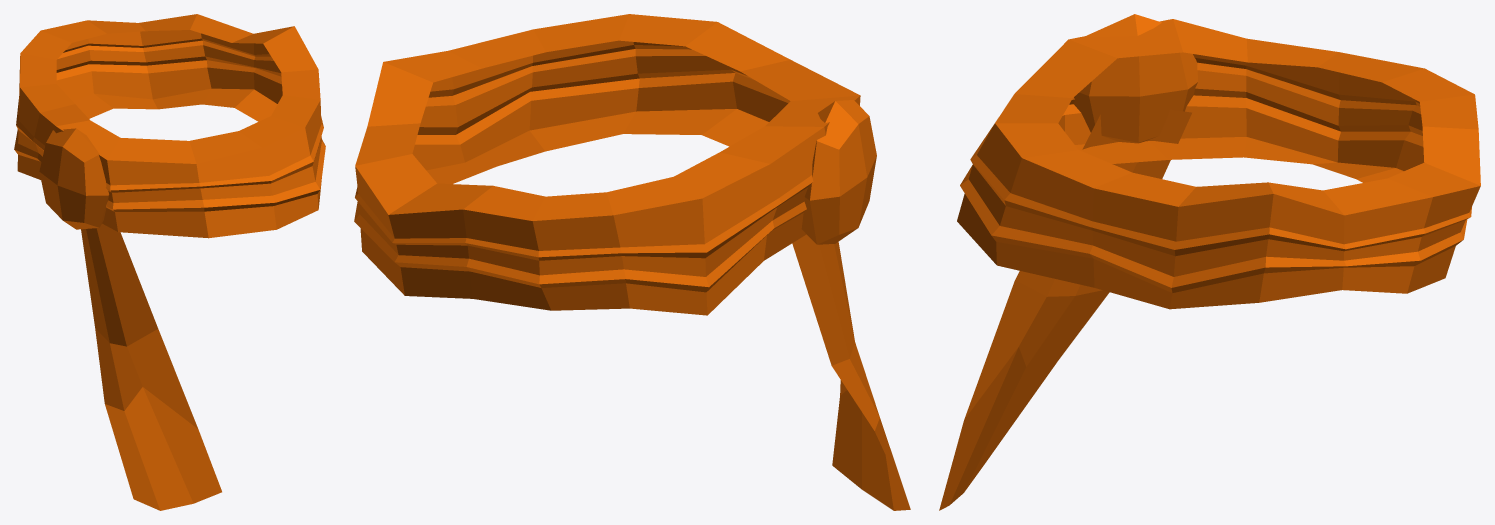
The model's file is Bandana.fbx.
The picture shows the model from 3 angles, left to right: view 1: azimuth 30°, elevation 25°; view 2: azimuth 150°, elevation 25°; view 3: azimuth 270°, elevation 25°; orthographic projection. The views are drawn at different scales.
Visible parts, largest first — view 1: Bandana; view 2: Bandana; view 3: Bandana.
Part boxes in pixels (<box>): Bandana: <box>14,14,325,510</box>; Bandana: <box>354,14,910,510</box>; Bandana: <box>939,14,1480,510</box>.
Bounding box in the file's own units: 27.52 × 30.87 × 32.62.
